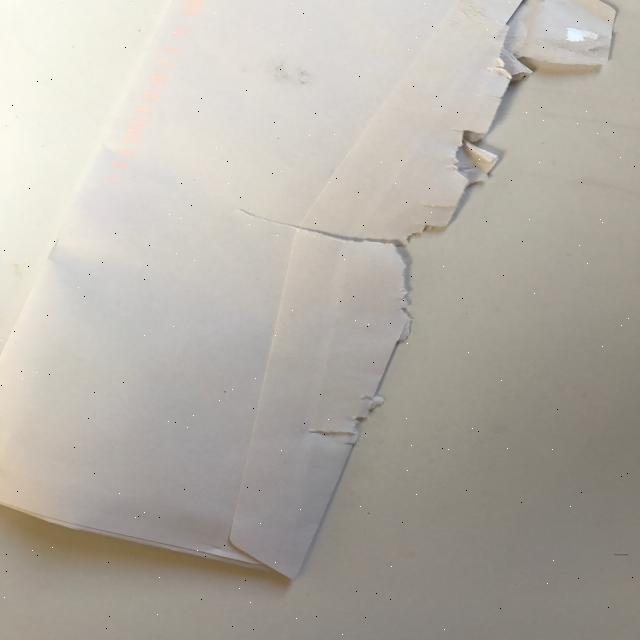paper: (1, 0, 617, 581)
